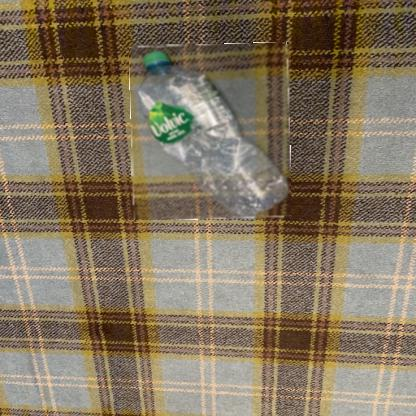plastic-bottles: (132, 45, 292, 221)
